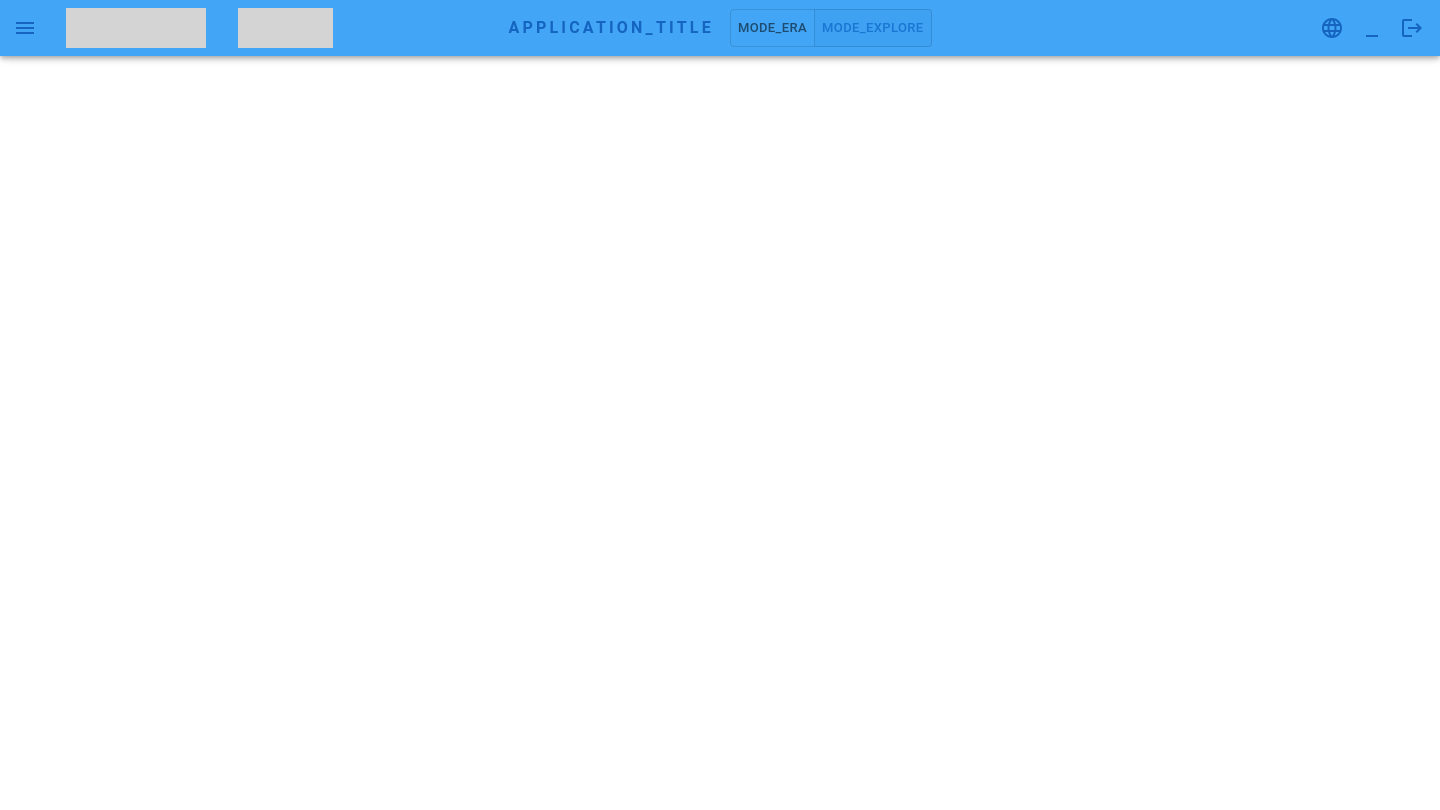
TopBar mode toggle + confirm dialog › uses the explore→era copy when switching from Custom to ERA
The image size is (1440, 810).
Click the button "mode_era": (772, 28) [730,9,815,47]
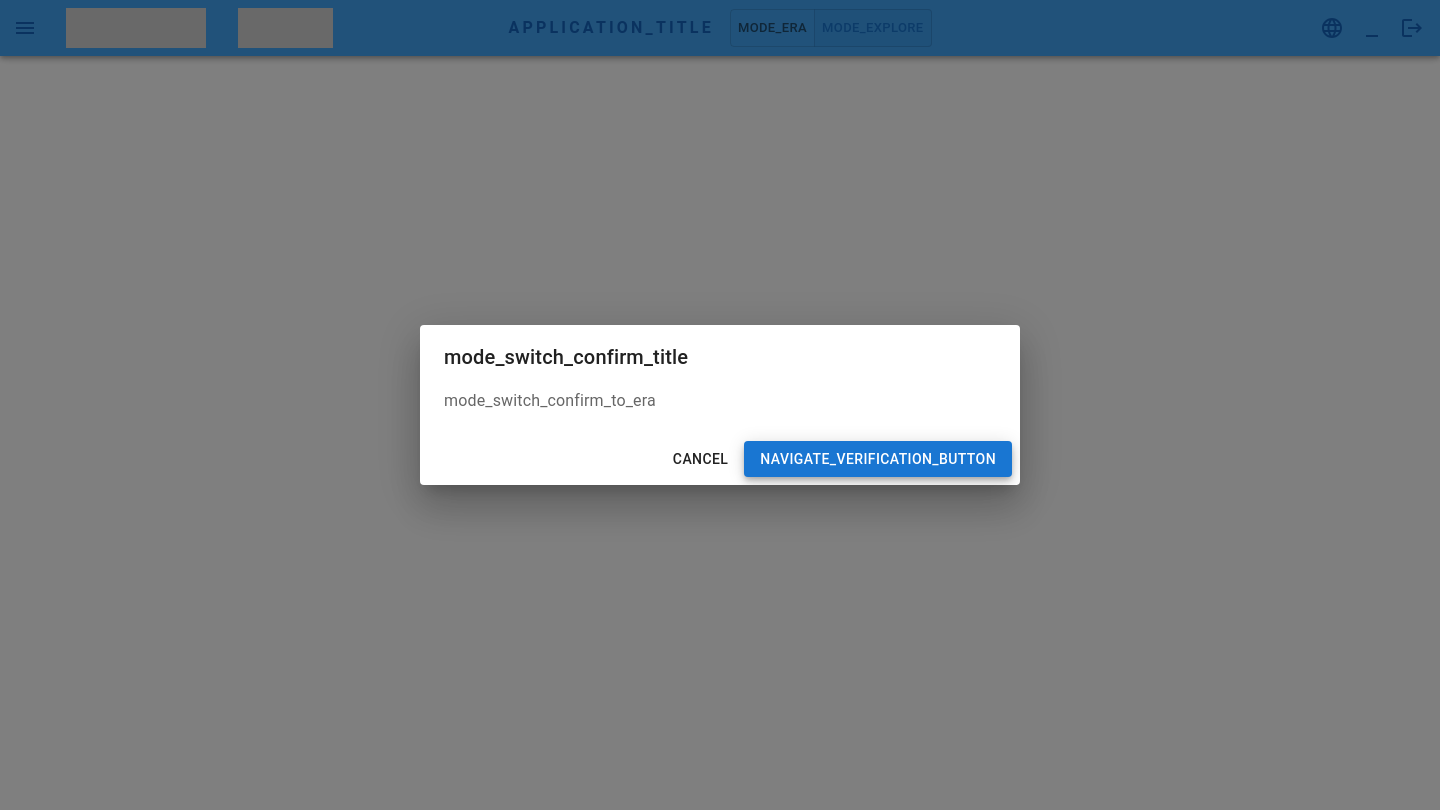
Expected: the text "mode_switch_confirm_to_era" is shown, [444,391,656,410]
